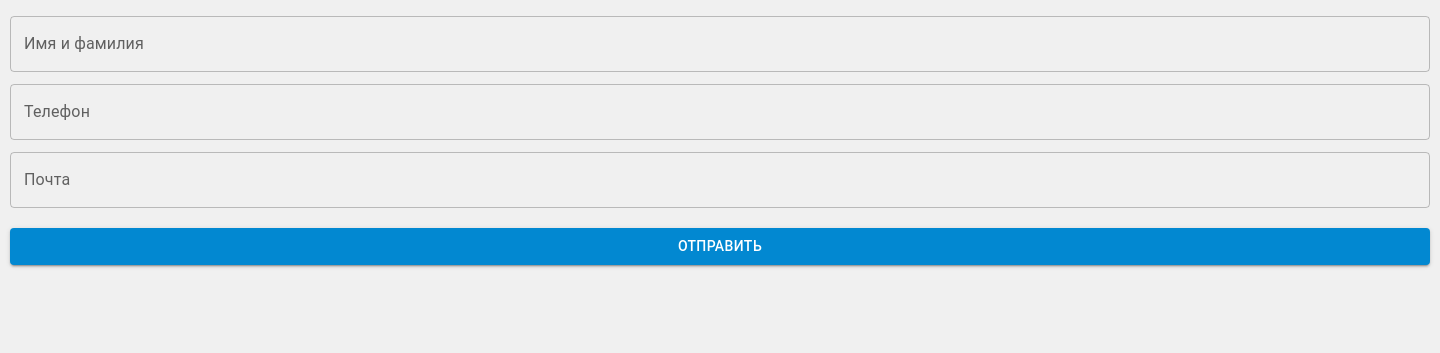
Test: Form component › Should display validation error for empty name field
The width and height of the screenshot is (1440, 353).
Step 1. Click the button "Отправить" → (720, 246), box [10,228,1430,264]
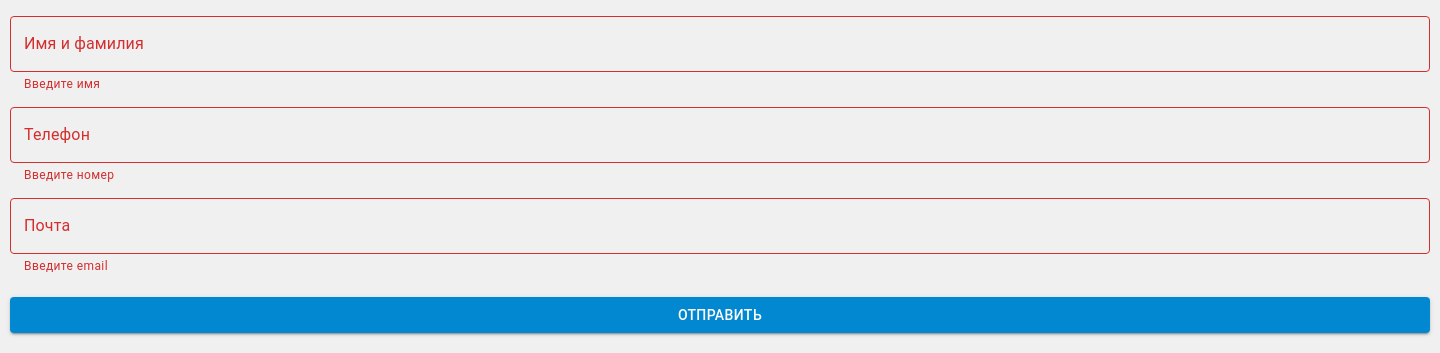
Expected: the text "Введите имя" is shown, [24,77,100,91]
